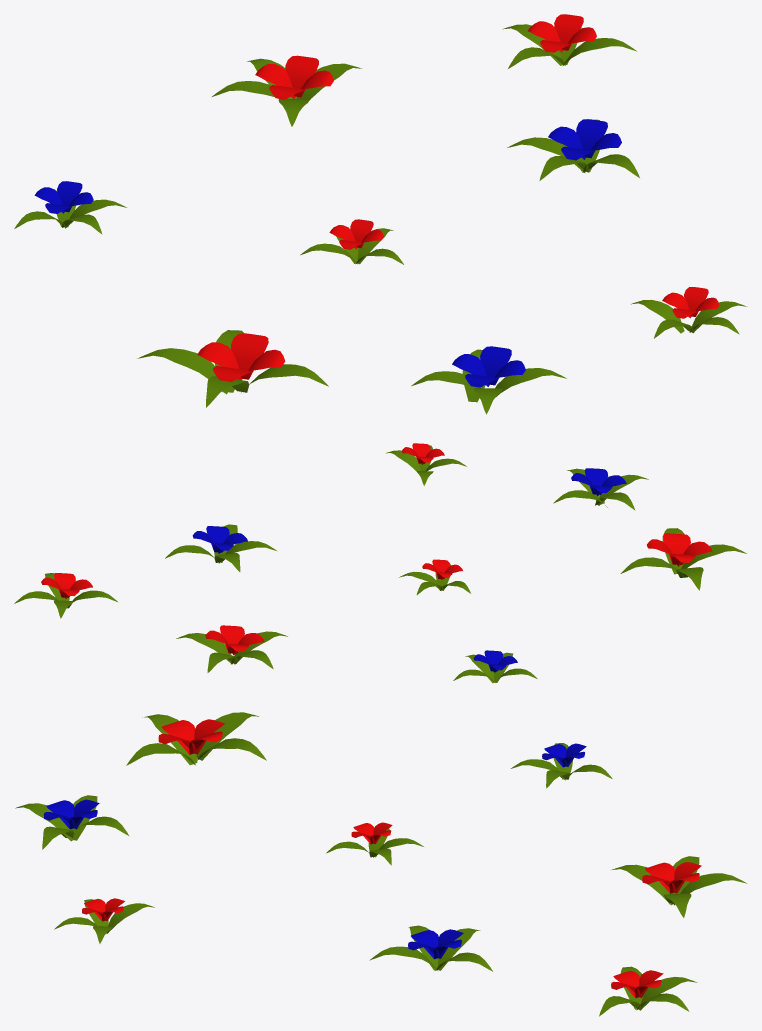
File: Flowers01_Geo.fbx
3 views of the same model, one above another, from view 1: azimuth 30°, elevation 25°; view 2: azimuth 150°, elevation 25°; view 3: azimuth 270°, elevation 25° (orthographic). The views are drawn at different scales.
Parts seen in each view (by area): view 1: pPlane15; view 2: pPlane15; view 3: pPlane15.
Boxes of the visible parts, <box> form: pPlane15: <box>14,14,747,414</box>; pPlane15: <box>14,443,746,683</box>; pPlane15: <box>15,712,747,1016</box>.
Size of the model in its own units: 228 by 13.55 by 239.
